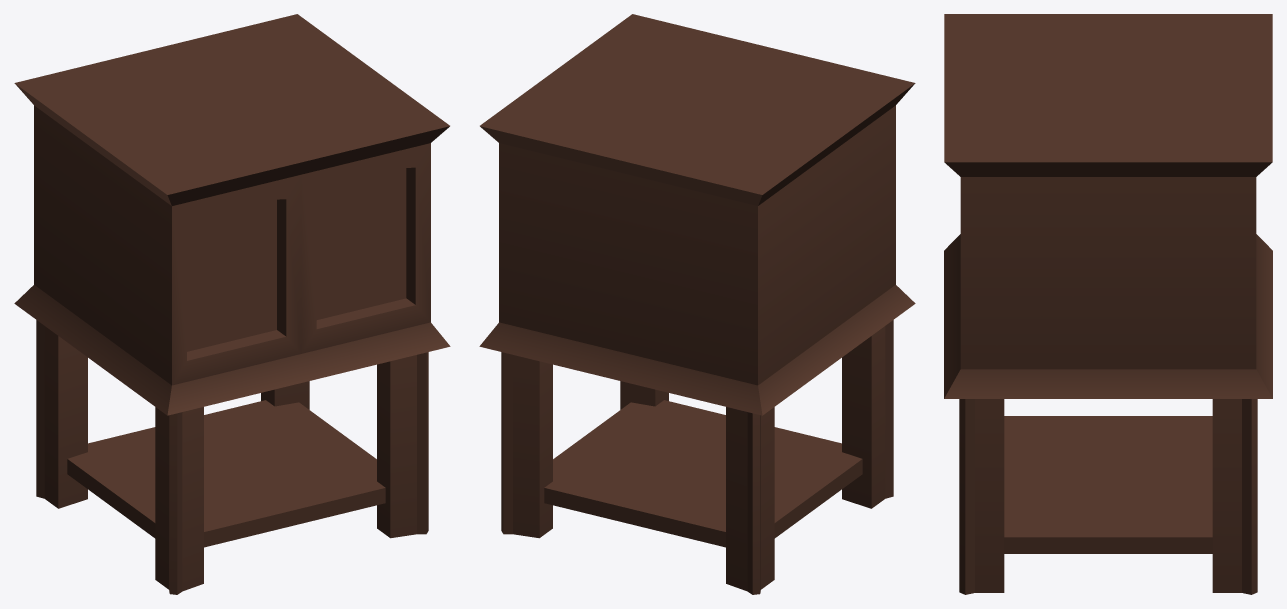
Rendered from Commode.fbx.
The picture shows the model from 3 angles, left to right: view 1: azimuth 30°, elevation 25°; view 2: azimuth 150°, elevation 25°; view 3: azimuth 270°, elevation 25°; orthographic projection. The views are drawn at different scales.
Visible parts, largest first — view 1: commode; view 2: commode; view 3: commode.
Boxes of the visible parts, box(x1,y1,x2,y2) form: commode: box(14, 14, 450, 594); commode: box(479, 14, 915, 594); commode: box(944, 14, 1272, 594).
Bounding box in the file's own units: 1.22 × 1.68 × 1.14.
